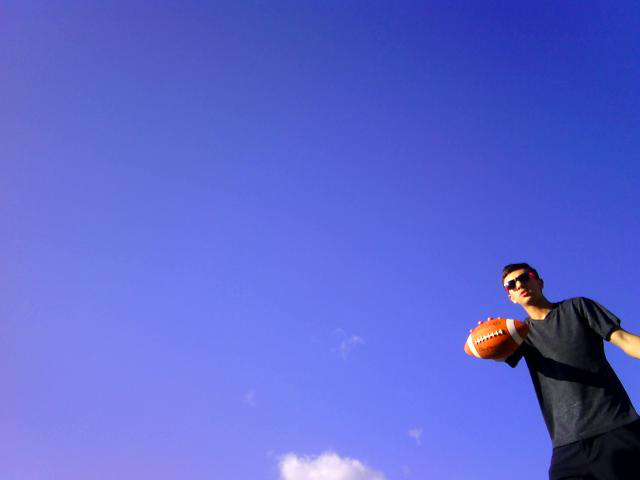football: (460, 313, 529, 366)
